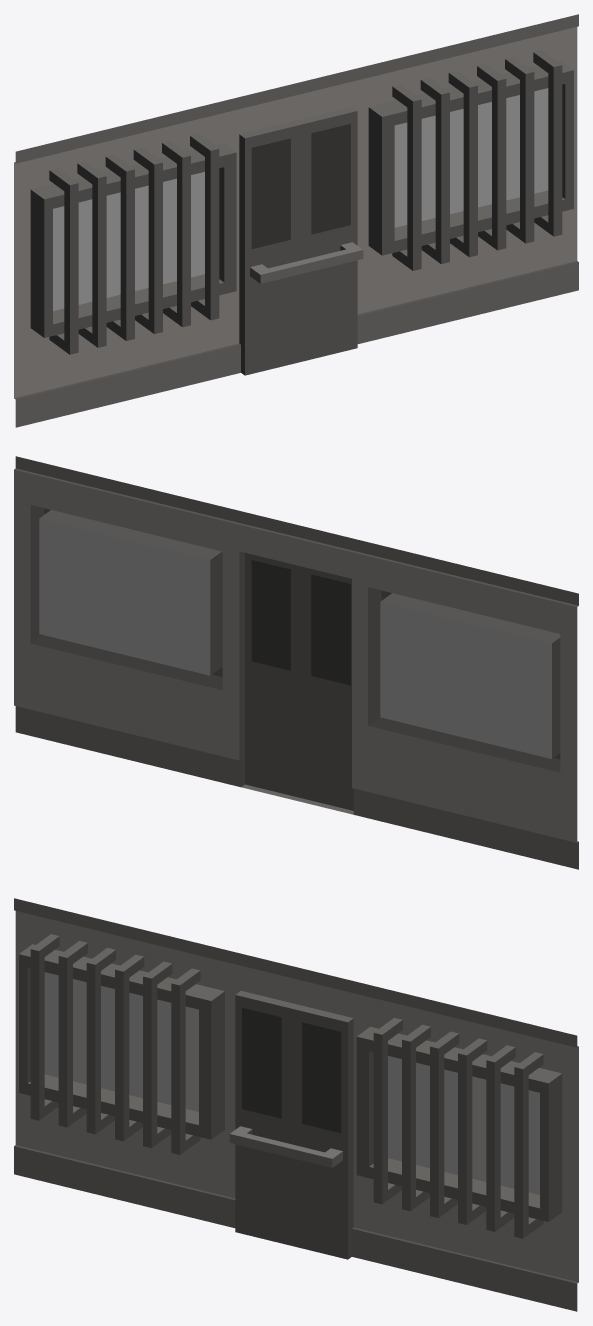
Rendered from AI_Env_Security_Entrance_Grey.fbx.
3 renders of one model, top to bottom at view 1: azimuth 30°, elevation 25°; view 2: azimuth 150°, elevation 25°; view 3: azimuth 330°, elevation 25°, orthographic.
Visible parts, largest first — view 1: AI_Env_Security_Entrance_Grey; view 2: AI_Env_Security_Entrance_Grey; view 3: AI_Env_Security_Entrance_Grey.
Part boxes in pixels (bbox=[...]): AI_Env_Security_Entrance_Grey: bbox=[14, 14, 578, 427]; AI_Env_Security_Entrance_Grey: bbox=[14, 456, 578, 869]; AI_Env_Security_Entrance_Grey: bbox=[14, 898, 578, 1311].
Bounding box in the file's own units: 10 × 4.69 × 0.6325.
